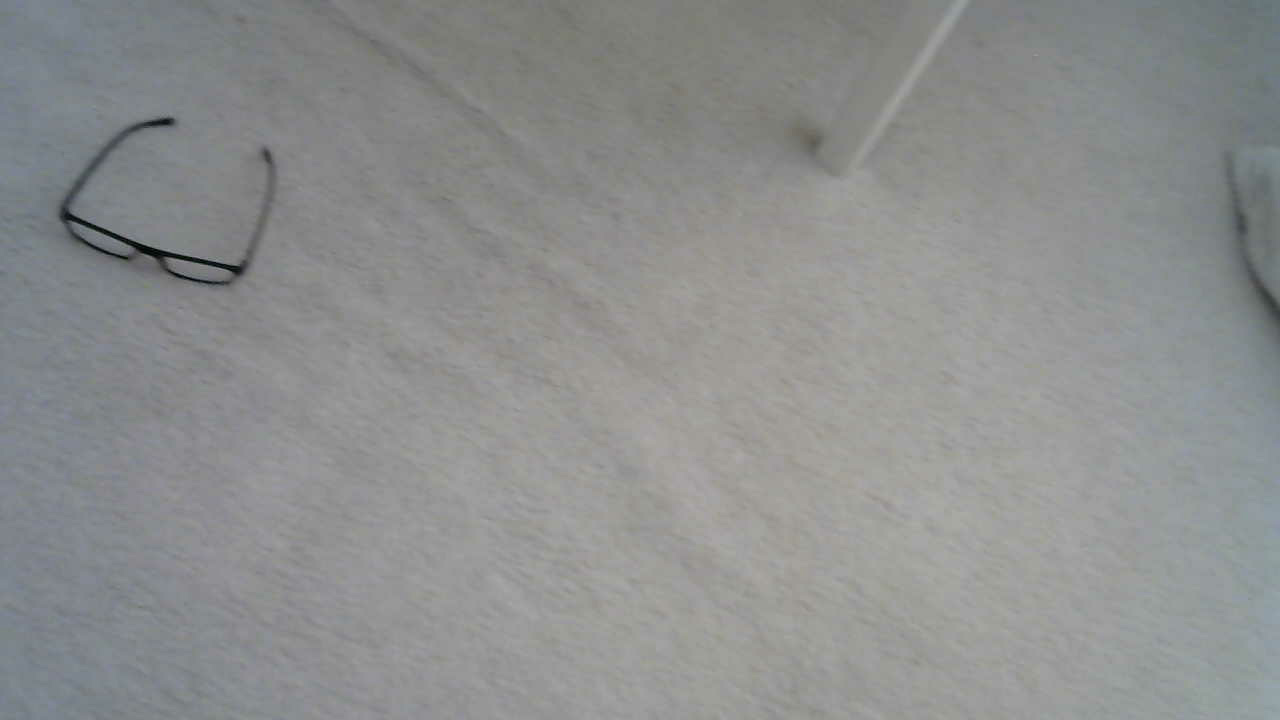Glasses: (39, 85, 293, 306)
